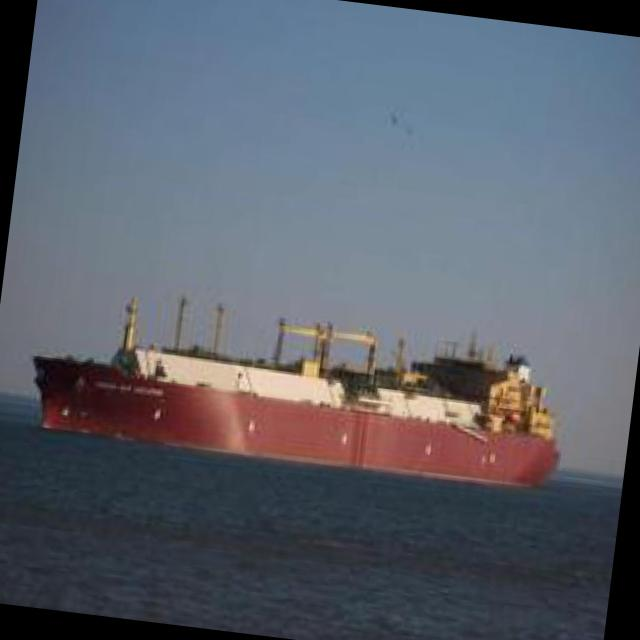boat: (28, 298, 580, 495)
